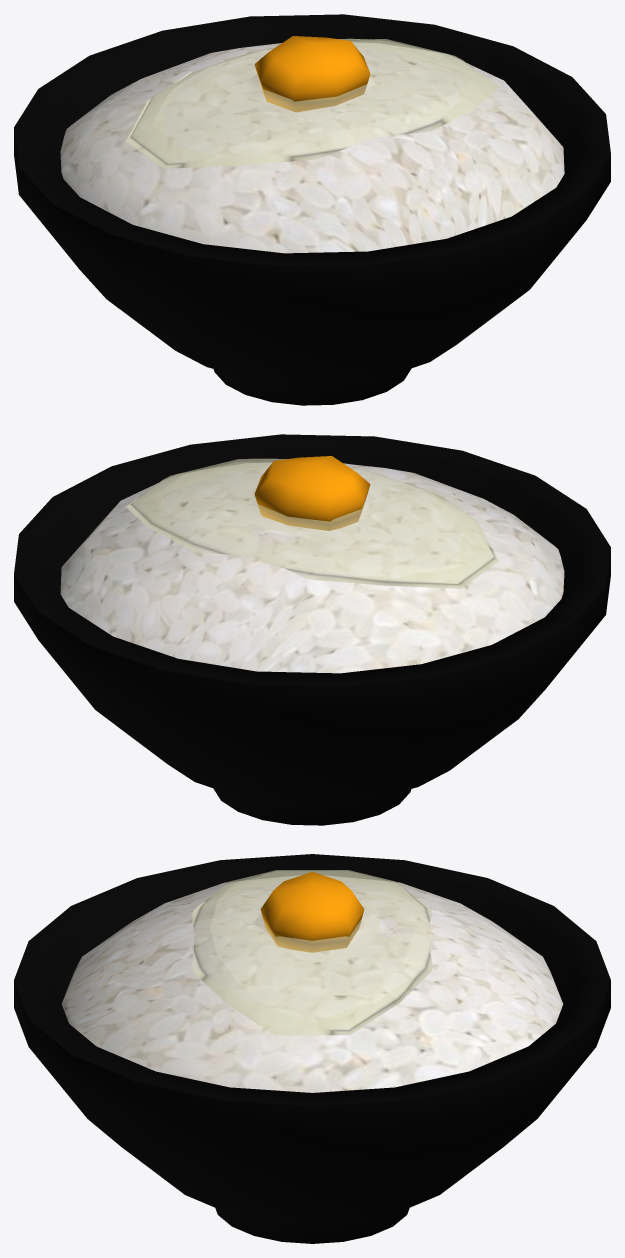
The model's file is TKG.fbx.
3 views of the same model, one above another, from view 1: azimuth 30°, elevation 25°; view 2: azimuth 150°, elevation 25°; view 3: azimuth 270°, elevation 25° (orthographic).
Parts seen in each view (by area): view 1: chawan, Okome, Egg; view 2: chawan, Okome, Egg; view 3: chawan, Okome, Egg.
Boxes of the visible parts, x1,y1,x2,y2 form: chawan: (14, 14, 610, 405); Okome: (60, 42, 564, 253); Egg: (126, 36, 498, 168); chawan: (14, 434, 610, 825); Okome: (60, 463, 564, 673); Egg: (126, 456, 498, 588); chawan: (14, 854, 610, 1243); Okome: (61, 875, 563, 1092); Egg: (192, 870, 432, 1035).
Size of the model in its own units: 100 by 58.75 by 100.
4 materials, 1 textured.
